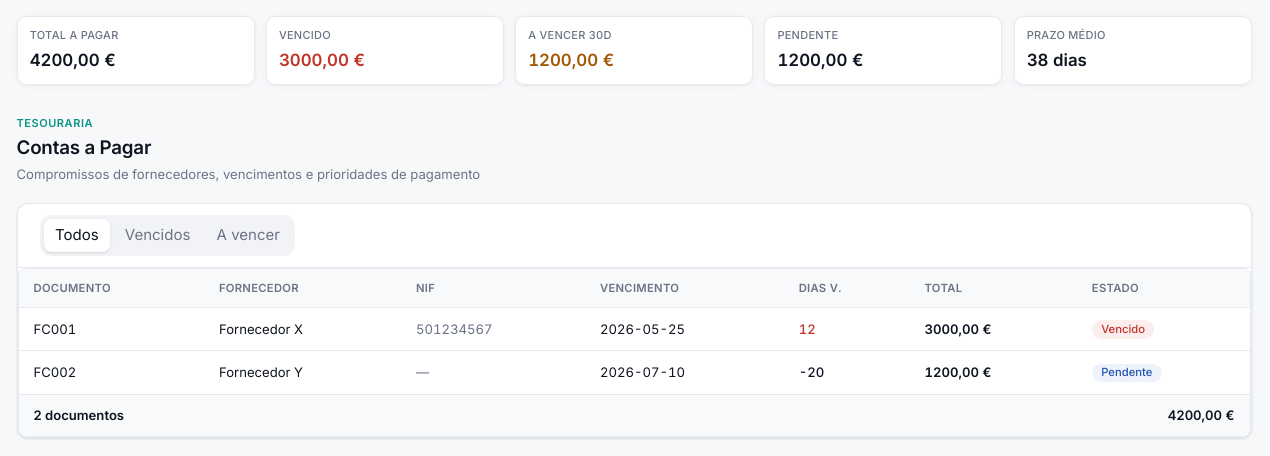
Test: PayablesPage › switches to the Vencidos tab to filter rows
This screenshot has width=1270, height=456.
Click the button "Vencidos": (158,235) [114,218,202,252]
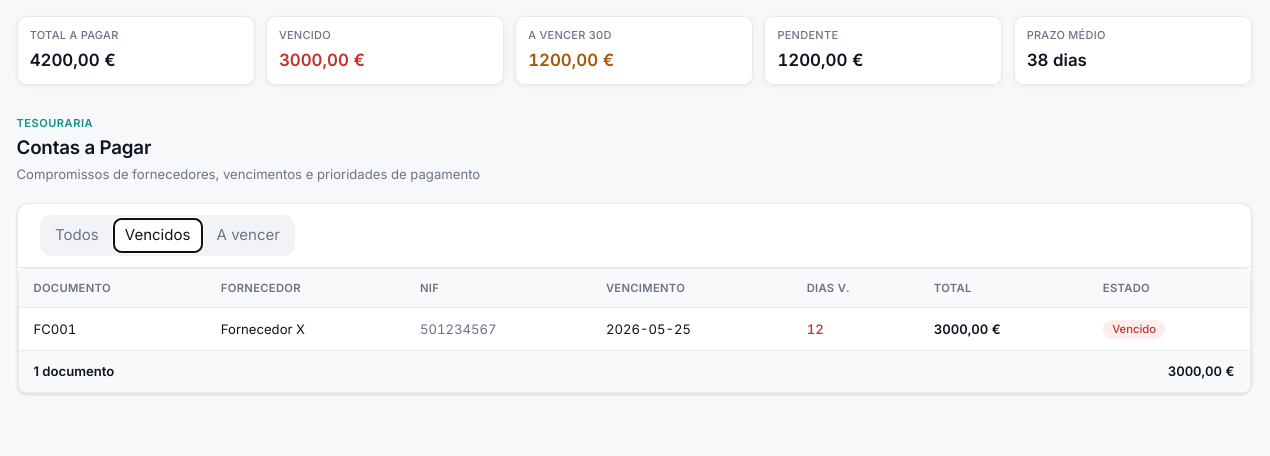
Expected: the text "Fornecedor X" is shown, [206,307,405,350]
Now the text "FC002" is gone
